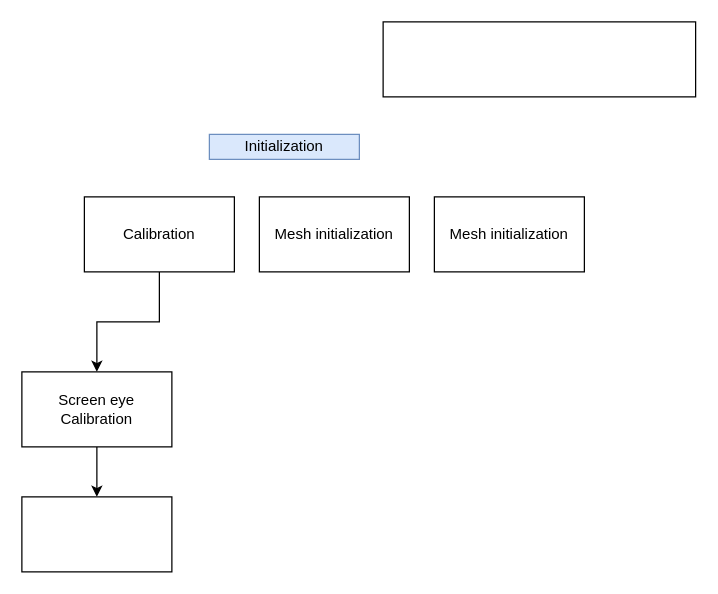
Image size: 718x594. Some labels were removed from this diagram. The shapes that lost their labels are listed below. From the top down, each one's centre as x and y in pixels, then its label:
At point 539,59: "3deformr Deformation".
At point 96,534: "Hand Position Calibration".
